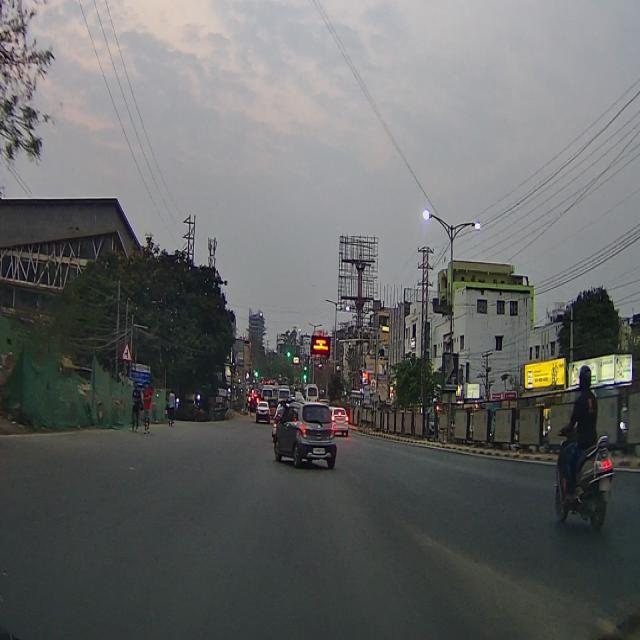side-road-left: (121, 339, 134, 365)
